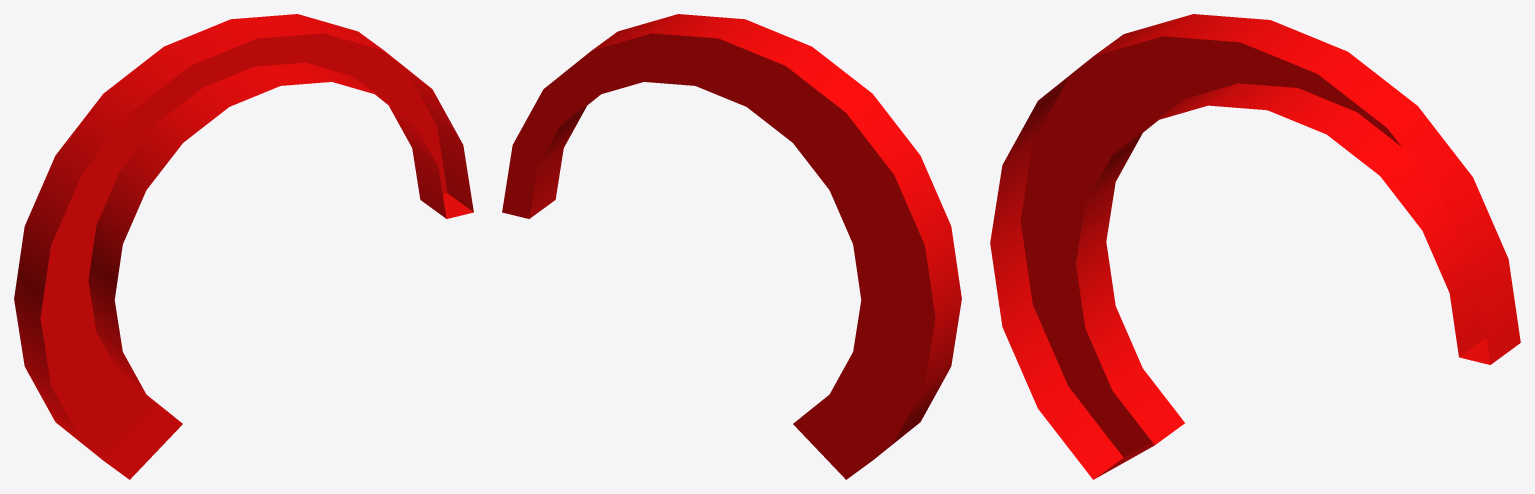
The model's file is SteamHouse_red_indoor.fbx.
3 renders of one model, left to right at view 1: azimuth 30°, elevation 25°; view 2: azimuth 150°, elevation 25°; view 3: azimuth 330°, elevation 25°, orthographic. The views are drawn at different scales.
Visible parts, largest first — view 1: SteamHouse_red_indoor; view 2: SteamHouse_red_indoor; view 3: SteamHouse_red_indoor.
Part boxes in pixels (bbox=[...]): SteamHouse_red_indoor: bbox=[14, 14, 473, 479]; SteamHouse_red_indoor: bbox=[502, 14, 961, 479]; SteamHouse_red_indoor: bbox=[990, 14, 1520, 479].
Bounding box in the file's own units: 1.96 × 1.77 × 0.206.
Materials: 1 (1 with a texture image).
